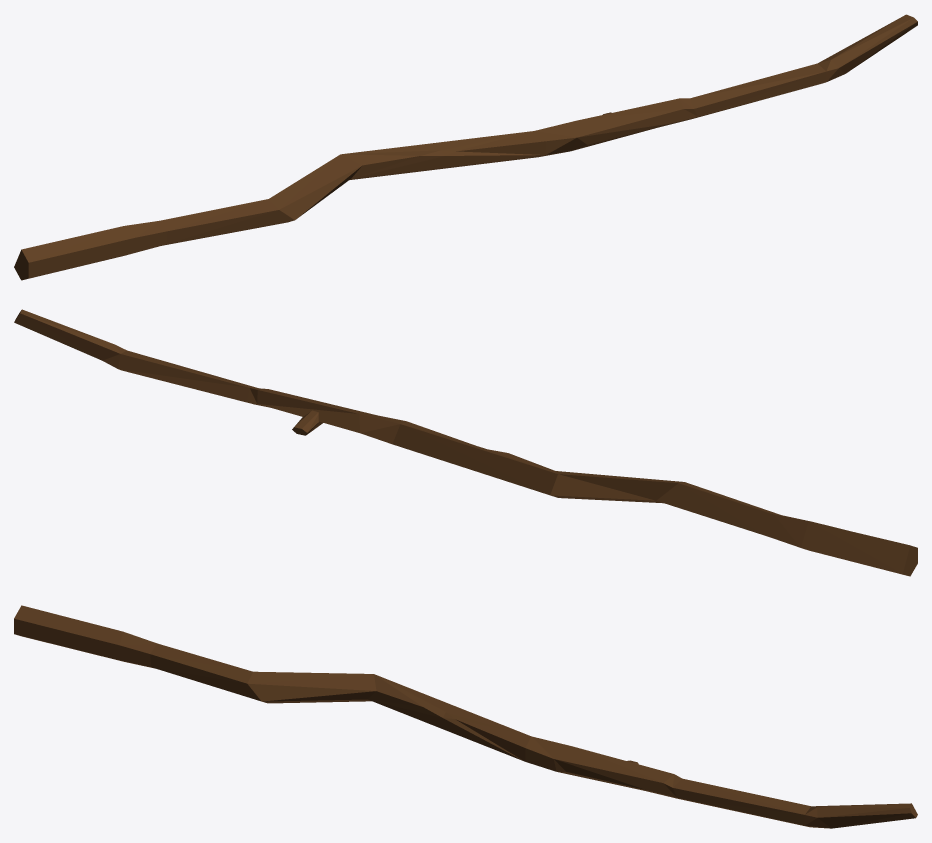
File: SM_Tree_Spruce_Branch_B.fbx
3 renders of one model, top to bottom at view 1: azimuth 30°, elevation 25°; view 2: azimuth 150°, elevation 25°; view 3: azimuth 330°, elevation 25°, orthographic.
Visible parts, largest first — view 1: tree-spruce-branch-b; view 2: tree-spruce-branch-b; view 3: tree-spruce-branch-b.
Boxes of the visible parts, x1,y1,x2,y2 form: tree-spruce-branch-b: (14, 14, 917, 280); tree-spruce-branch-b: (14, 309, 917, 576); tree-spruce-branch-b: (14, 605, 917, 828).
Size of the model in its own units: 2.16 by 0.1108 by 0.1588.
